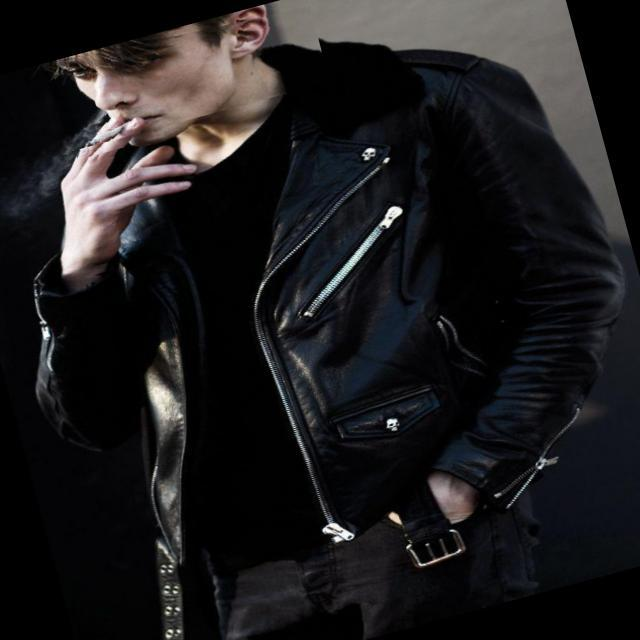cigarette: (66, 105, 165, 160)
